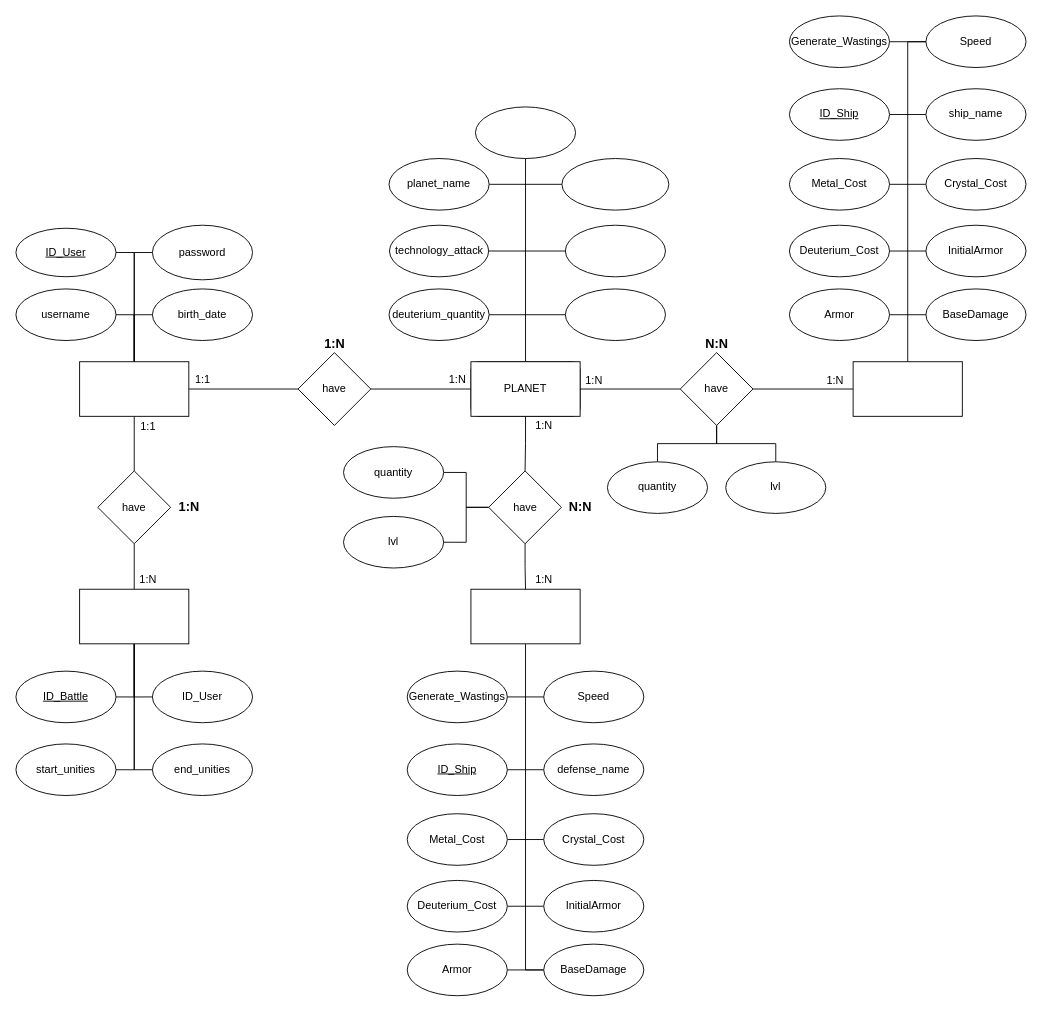
Image size: 1042x1012. Some labels were removed from this diagram. Each missing label, with the box of its shape:
BATTLE: (79, 588, 189, 644)
crystal_quantity: (564, 224, 665, 277)
DEFENSE: (470, 588, 580, 644)
ID_Planet: (475, 106, 576, 159)
metal_quantity: (564, 288, 665, 341)
SHIP: (852, 361, 962, 416)
technology_defense: (561, 158, 669, 210)
USER_PW: (79, 361, 189, 416)
